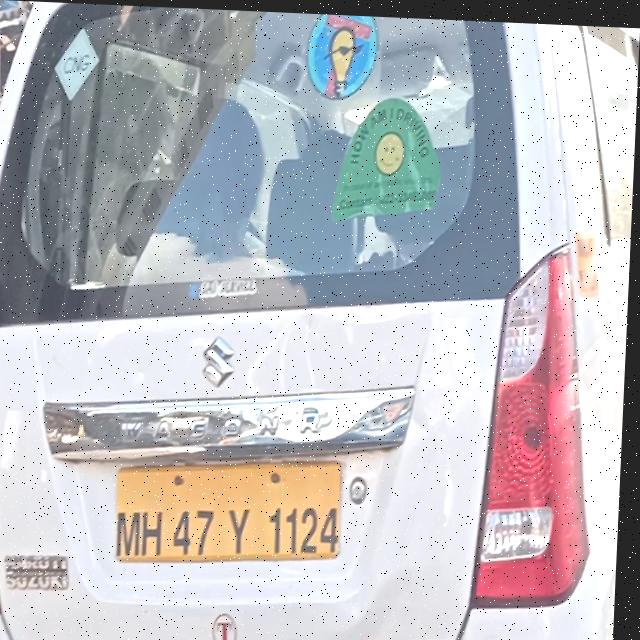plate: (117, 447, 349, 569)
